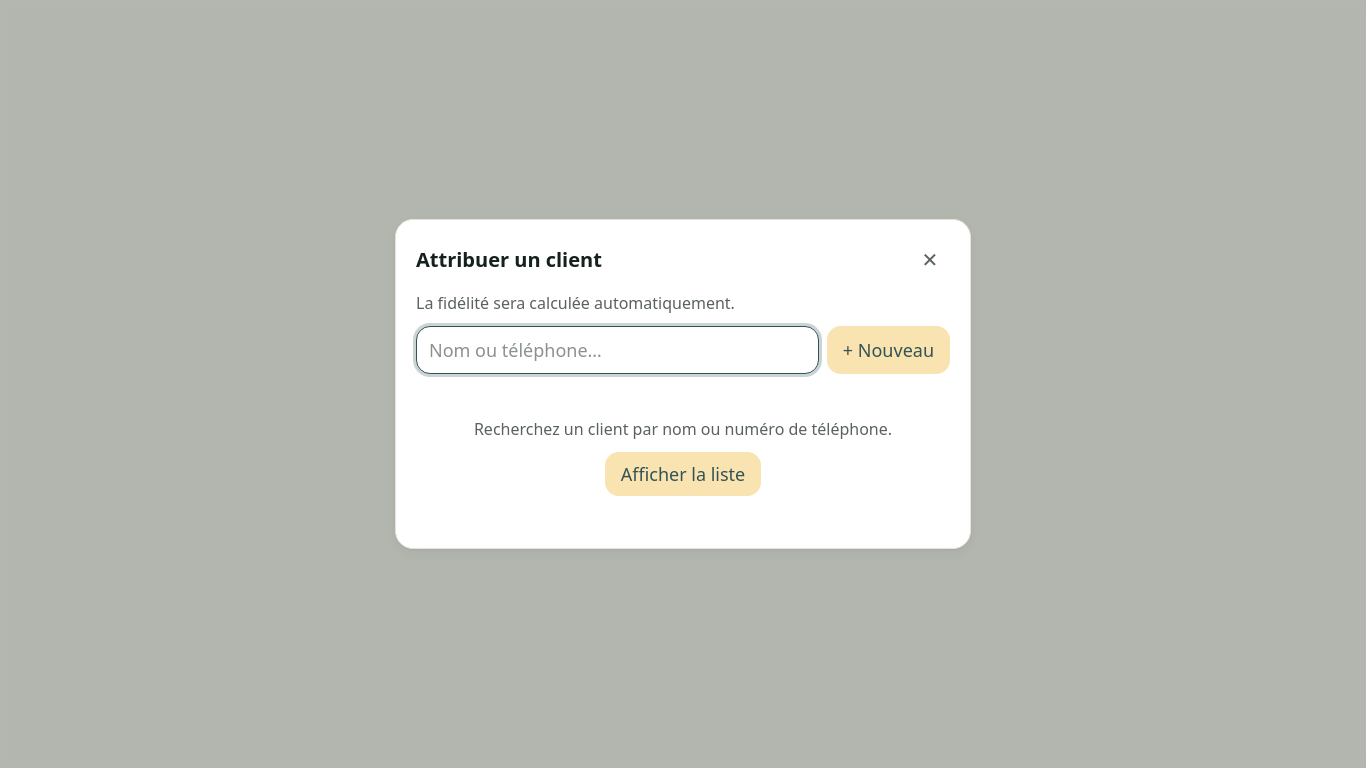
Modale client post-vente (Ma Journée) › "Afficher la liste" charge la liste complète sans recherche
Click the button "Afficher la liste" at (683,474), box x1=605 y1=452 x2=761 y2=496
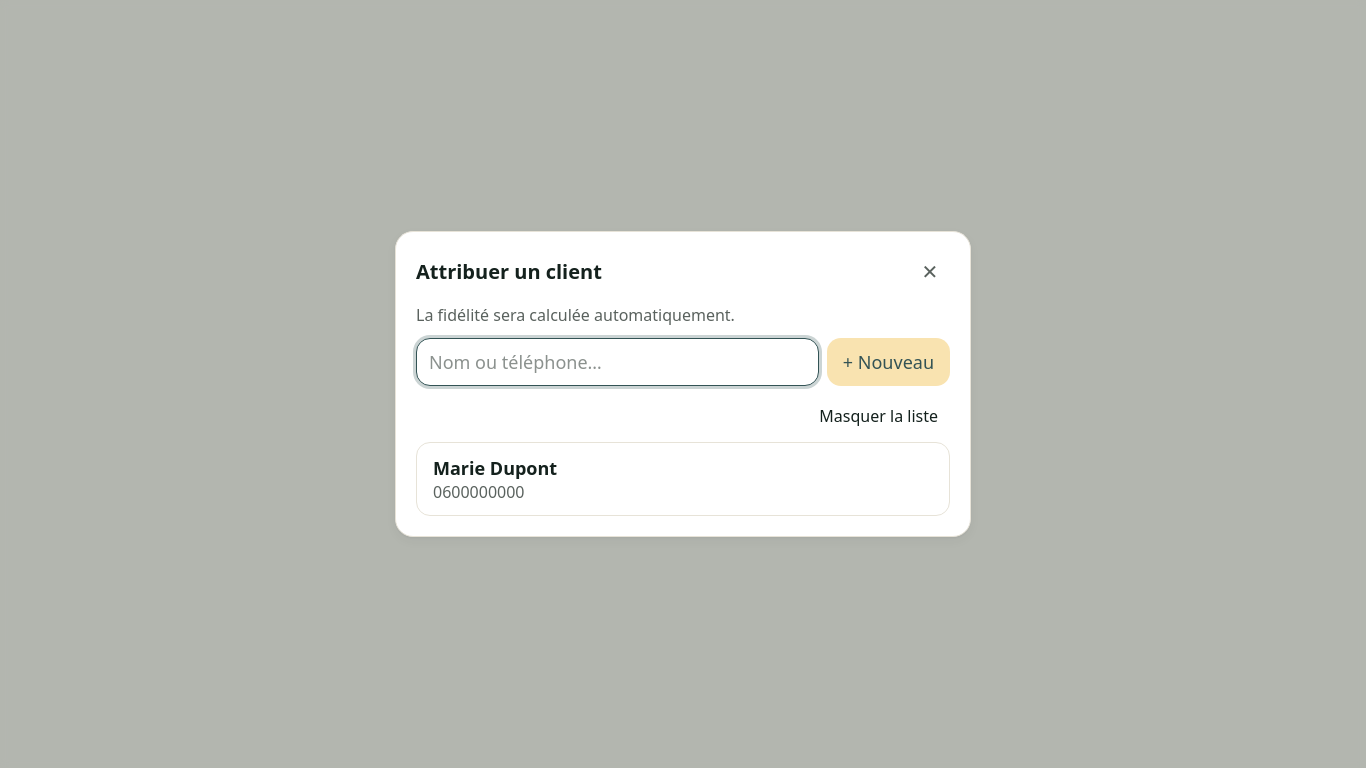
Check: the text "Marie Dupont" is shown, box x1=433 y1=456 x2=557 y2=480
Check: the button "Masquer la liste" is shown, box x1=807 y1=398 x2=950 y2=434
